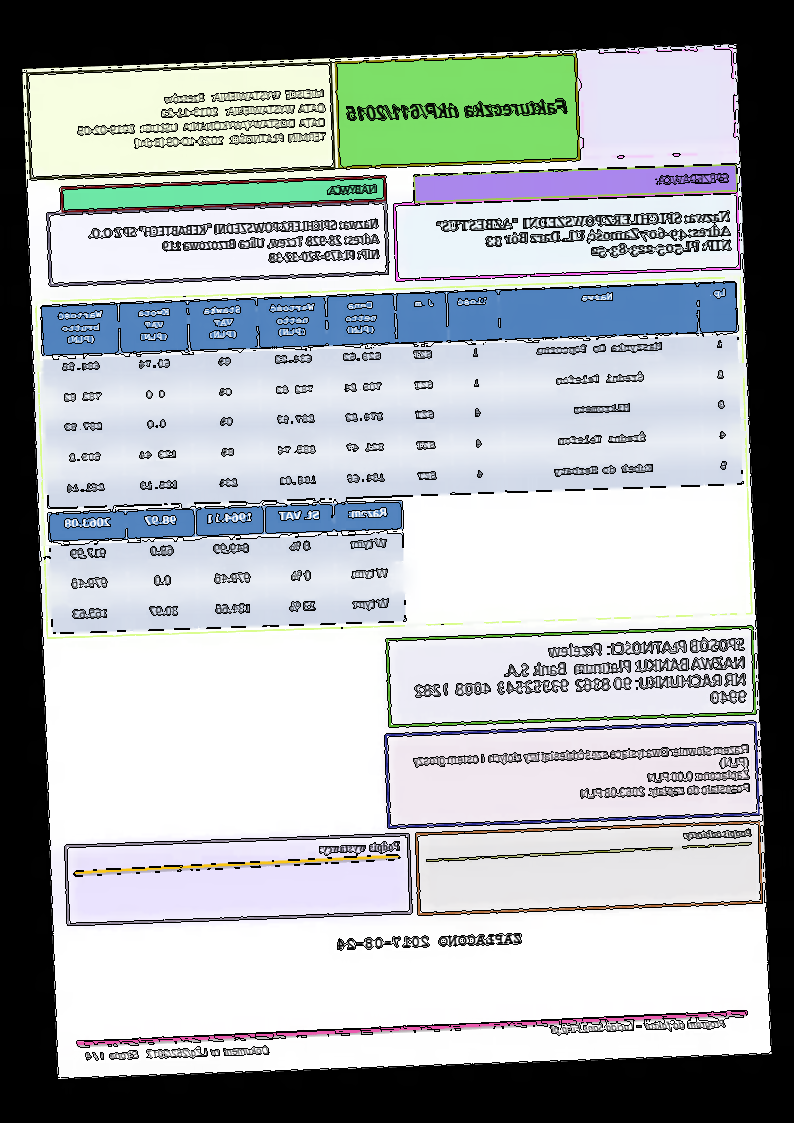Table: (39, 279, 746, 511), (45, 498, 410, 635)
TextBox: (407, 632, 751, 719), (406, 740, 754, 808), (434, 204, 735, 268), (83, 212, 383, 276), (70, 83, 329, 155), (343, 92, 571, 128), (81, 1039, 275, 1068), (334, 929, 525, 955), (546, 1013, 730, 1039), (316, 835, 405, 862), (653, 167, 734, 190), (682, 822, 759, 846), (324, 179, 381, 200)
